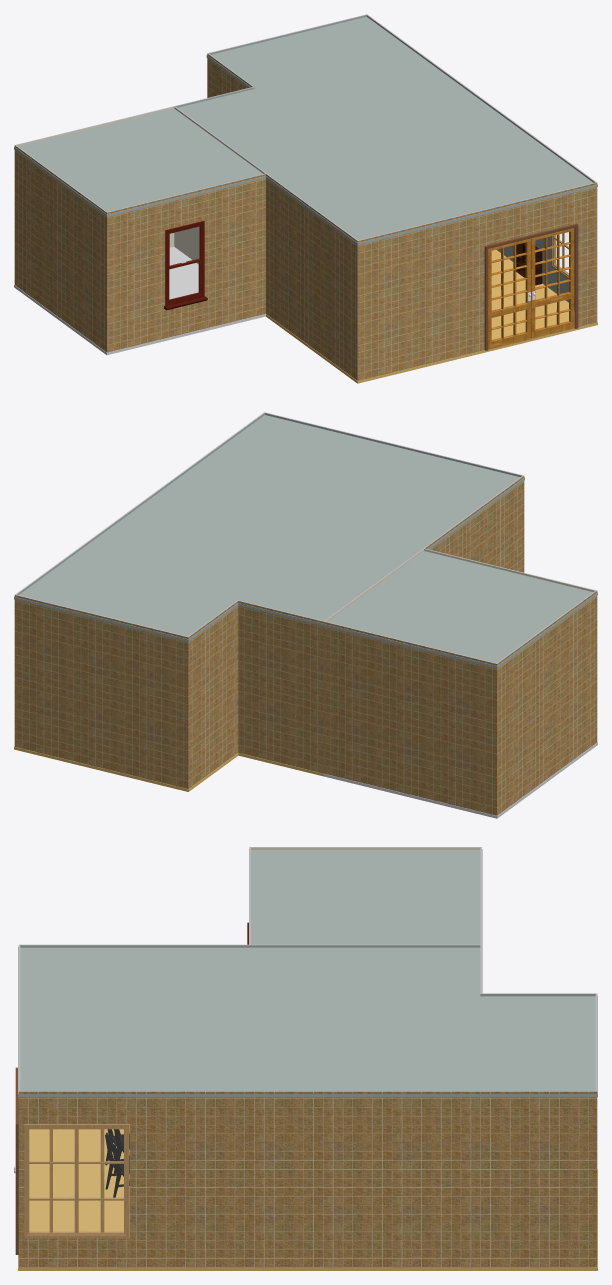
Rendered from ProcTHOR-Train-11.glb.
3 renders of one model, top to bottom at view 1: azimuth 30°, elevation 25°; view 2: azimuth 150°, elevation 25°; view 3: azimuth 270°, elevation 25°, orthographic. The views are drawn at different scales.
Parts seen in each view (by area): view 1: Ceiling#room|3|c, WallInside#wall|exterior|0.00|8.39|5.03|8.39, WallInside#wall|exterior|5.03|5.03|8.39|5.03, Ceiling#room|2|c, WallInside#wall|exterior|8.39|1.68|8.39|5.03, WallInside#wall|exterior|5.03|5.03|5.03|8.39, Floor#room|3|f, Doorway_Door_5b, Doorway_Door_5a, Floor#room|2|f, Window_Hung_32x60, WallInside#wall|3|0.00|0.00|0.00|8.39 (+5 smaller); view 2: Ceiling#room|3|c, WallInside#wall|exterior|0.00|0.00|3.35|0.00, WallInside#wall|exterior|5.03|1.68|8.39|1.68, Ceiling#room|2|c, WallInside#wall|exterior|8.39|1.68|8.39|5.03, WallInside#wall|exterior|3.35|1.68|5.03|1.68, WallInside#wall|exterior|3.35|0.00|3.35|1.68, WallInside#wall|exterior|5.03|5.03|5.03|8.39, Floor#room|3|f, Floor#room|2|f, WallInside#wall|3|0.00|0.00|0.00|8.39, WallInside#wall|3|0.00|8.39|5.03|8.39; view 3: WallInside#wall|exterior|0.00|0.00|0.00|8.39, Ceiling#room|3|c, Ceiling#room|2|c, Floor#room|3|f, Window_Fixed_60x72, Doorway_Double_5, WallInside#wall|3|5.03|5.03|5.03|8.39, WallInside#wall|2|8.39|1.68|8.39|5.03, WallInside#wall|3|5.03|1.68|5.03|5.03, RoboTHOR_chair_norden_gateleg, WallInside#wall|3|0.00|0.00|0.00|8.39.
Part boxes in pixels (<box>): Ceiling#room|3|c: <box>177,16,597,245</box>; WallInside#wall|exterior|0.00|8.39|5.03|8.39: <box>357,182,597,380</box>; WallInside#wall|exterior|5.03|5.03|8.39|5.03: <box>107,174,265,352</box>; Ceiling#room|2|c: <box>14,108,265,216</box>; WallInside#wall|exterior|8.39|1.68|8.39|5.03: <box>14,145,106,352</box>; WallInside#wall|exterior|5.03|5.03|5.03|8.39: <box>266,174,357,380</box>; Floor#room|3|f: <box>266,249,597,383</box>; Doorway_Door_5b: <box>531,228,574,338</box>; Doorway_Door_5a: <box>488,238,531,349</box>; Floor#room|2|f: <box>14,247,265,355</box>; Window_Hung_32x60: <box>164,221,207,310</box>; WallInside#wall|3|0.00|0.00|0.00|8.39: <box>366,15,595,302</box>; Ceiling#room|3|c: <box>14,415,524,641</box>; WallInside#wall|exterior|0.00|0.00|3.35|0.00: <box>14,595,188,788</box>; WallInside#wall|exterior|5.03|1.68|8.39|1.68: <box>323,621,496,815</box>; Ceiling#room|2|c: <box>323,551,597,668</box>; WallInside#wall|exterior|8.39|1.68|8.39|5.03: <box>497,591,597,815</box>; WallInside#wall|exterior|3.35|1.68|5.03|1.68: <box>237,600,323,773</box>; WallInside#wall|exterior|3.35|0.00|3.35|1.68: <box>188,601,238,788</box>; WallInside#wall|exterior|5.03|5.03|5.03|8.39: <box>424,476,524,572</box>; Floor#room|3|f: <box>14,746,324,791</box>; Floor#room|2|f: <box>322,742,597,818</box>; WallInside#wall|3|0.00|0.00|0.00|8.39: <box>16,412,265,594</box>; WallInside#wall|3|0.00|8.39|5.03|8.39: <box>265,413,523,477</box>; WallInside#wall|exterior|0.00|0.00|0.00|8.39: <box>18,1091,597,1267</box>; Ceiling#room|3|c: <box>18,946,597,1097</box>; Ceiling#room|2|c: <box>249,849,482,947</box>; Floor#room|3|f: <box>18,1124,597,1270</box>; Window_Fixed_60x72: <box>24,1124,128,1238</box>; Doorway_Double_5: <box>15,1067,18,1254</box>; WallInside#wall|3|5.03|5.03|5.03|8.39: <box>20,945,250,947</box>; WallInside#wall|2|8.39|1.68|8.39|5.03: <box>250,847,481,849</box>; WallInside#wall|3|5.03|1.68|5.03|5.03: <box>250,945,480,947</box>; RoboTHOR_chair_norden_gateleg: <box>105,1132,129,1197</box>; WallInside#wall|3|0.00|0.00|0.00|8.39: <box>19,1091,596,1091</box>.
Size of what is drawn, in the model's own units: 8.45 by 2.87 by 8.49.
Materials: 133 (52 with a texture image).
